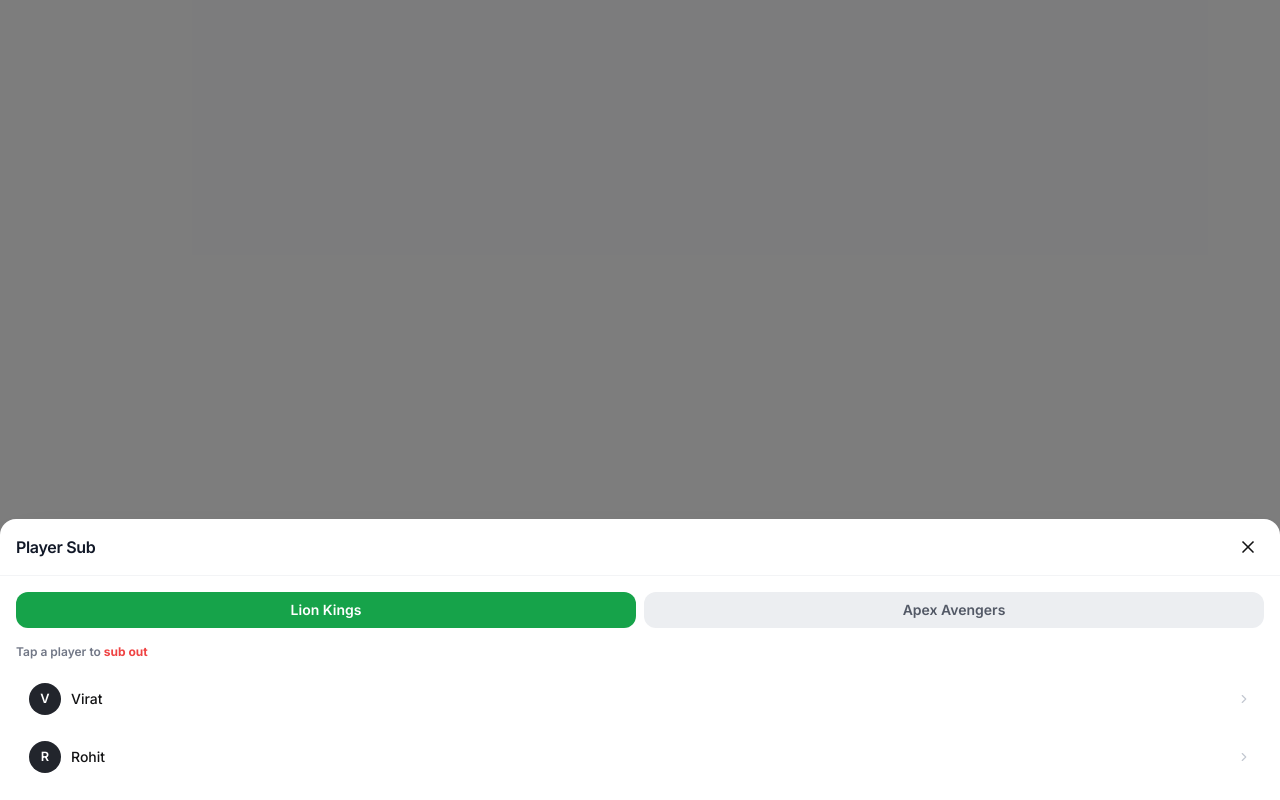
Test case: PlayerSubSheet — injured toggle › shows the Injured toggle in step 2 for a tournament match
The image size is (1280, 800).
Click the text "Virat" at (87,698), box [71,690,102,707]
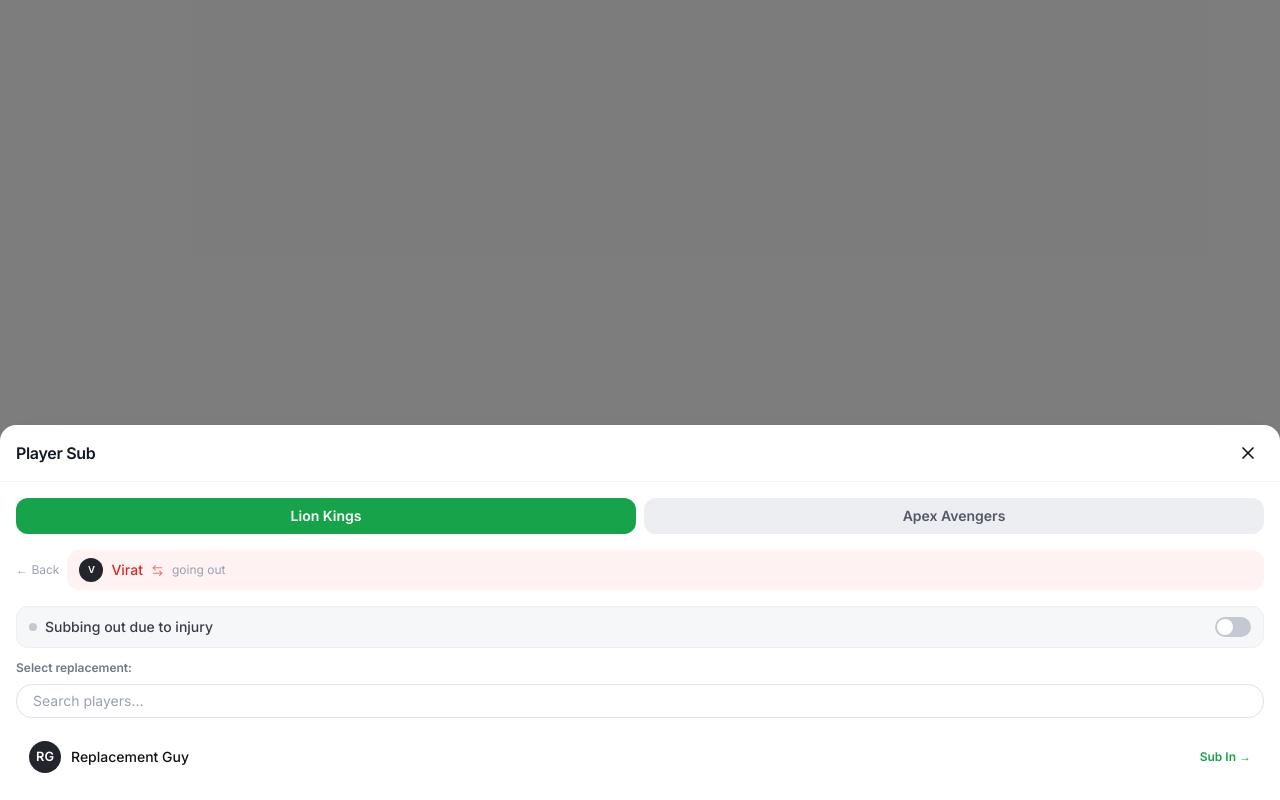
Result: the text "Subbing out due to injury" is shown at [29,617,213,637]
